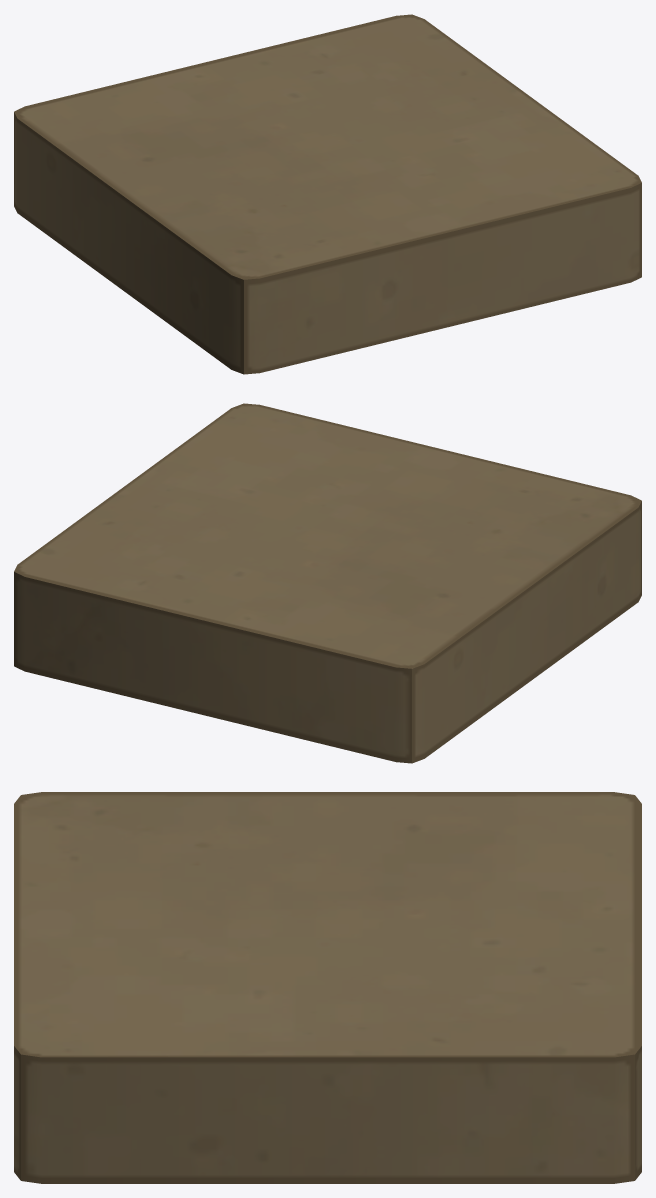
The model's file is SM_building_foundation_04.glb.
3 renders of one model, top to bottom at view 1: azimuth 30°, elevation 25°; view 2: azimuth 150°, elevation 25°; view 3: azimuth 270°, elevation 25°, orthographic. The views are drawn at different scales.
Visible parts, largest first — view 1: SM_building_foundation_04; view 2: SM_building_foundation_04; view 3: SM_building_foundation_04.
Boxes of the visible parts, x1=… form: SM_building_foundation_04: x1=14, y1=14, x2=641, y2=374; SM_building_foundation_04: x1=14, y1=403, x2=641, y2=763; SM_building_foundation_04: x1=14, y1=792, x2=641, y2=1183.
Size of the model in its own units: 0.9 by 0.2 by 0.9.
1 material, 1 textured.
